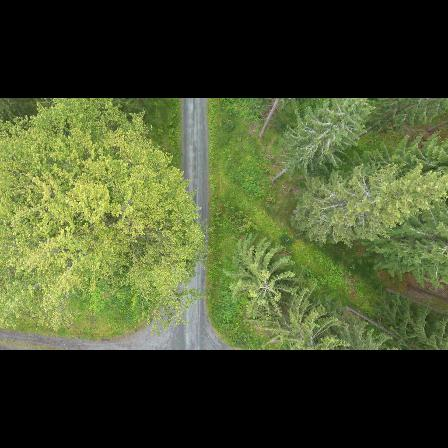Sick: (250, 270, 284, 306)
